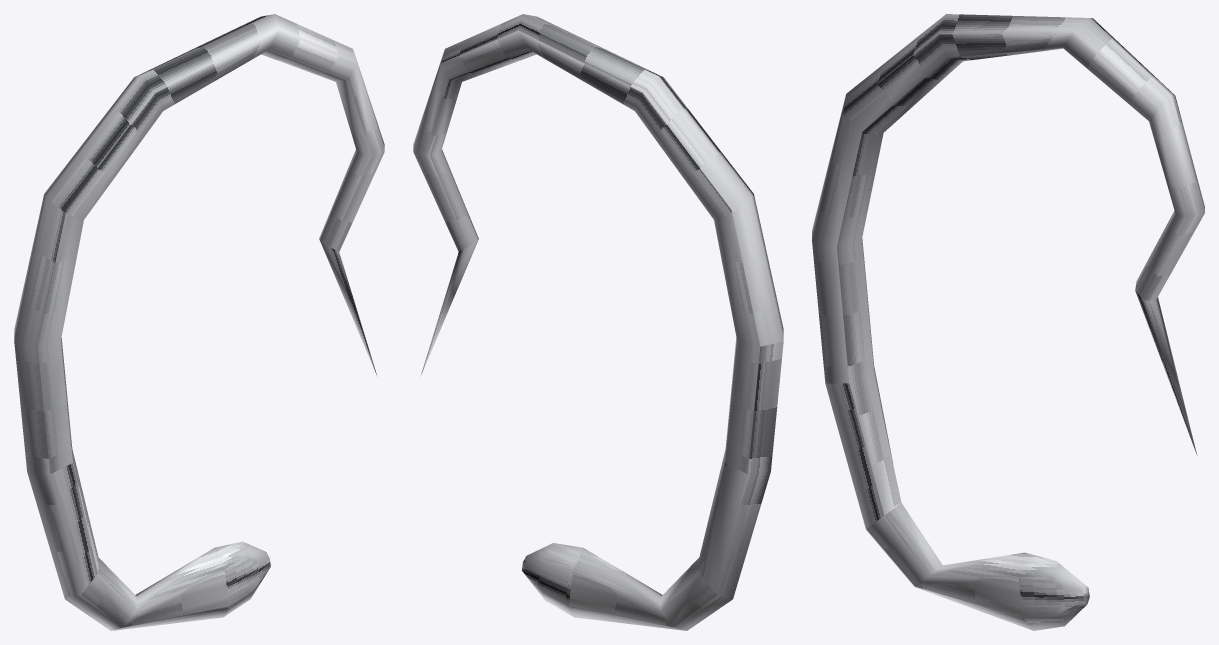
Rendered from snake_000036.obj.
3 views of the same model, side by side, from view 1: azimuth 30°, elevation 25°; view 2: azimuth 150°, elevation 25°; view 3: azimuth 330°, elevation 25° (orthographic). The views are drawn at different scales.
Visible parts, largest first — view 1: Cylinder; view 2: Cylinder; view 3: Cylinder.
Boxes of the visible parts, x1,y1,x2,y2 form: Cylinder: (14, 14, 384, 630); Cylinder: (413, 14, 783, 630); Cylinder: (812, 14, 1204, 630).
Size of the model in its own units: 3.36 by 5.13 by 0.3671.
